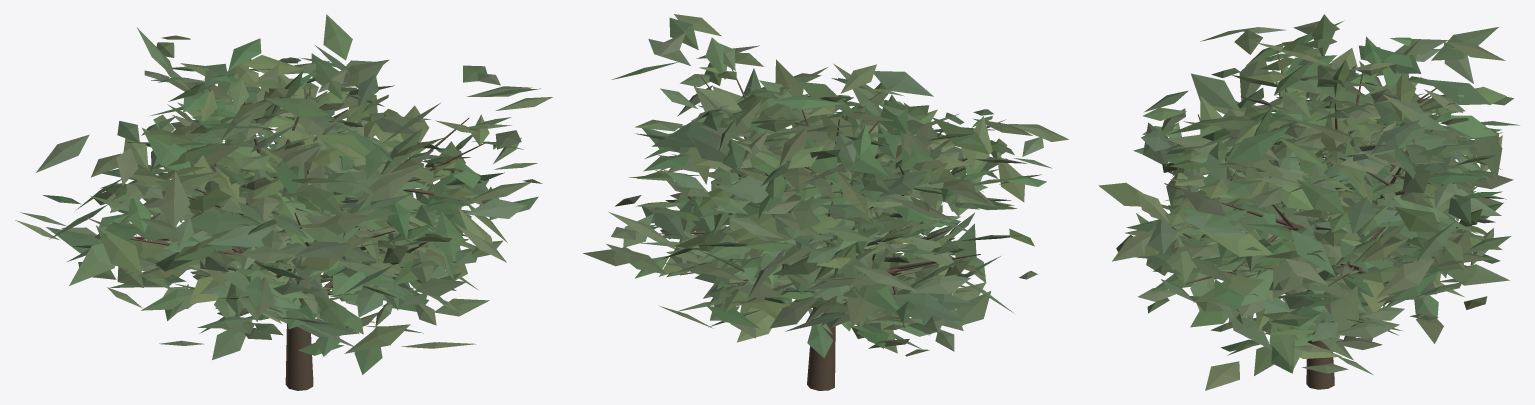
File: Bush2.glb
The picture shows the model from 3 angles, left to right: view 1: azimuth 30°, elevation 25°; view 2: azimuth 150°, elevation 25°; view 3: azimuth 270°, elevation 25°; orthographic projection. The views are drawn at different scales.
Bounding box in the file's own units: 2 × 1.45 × 1.73.
